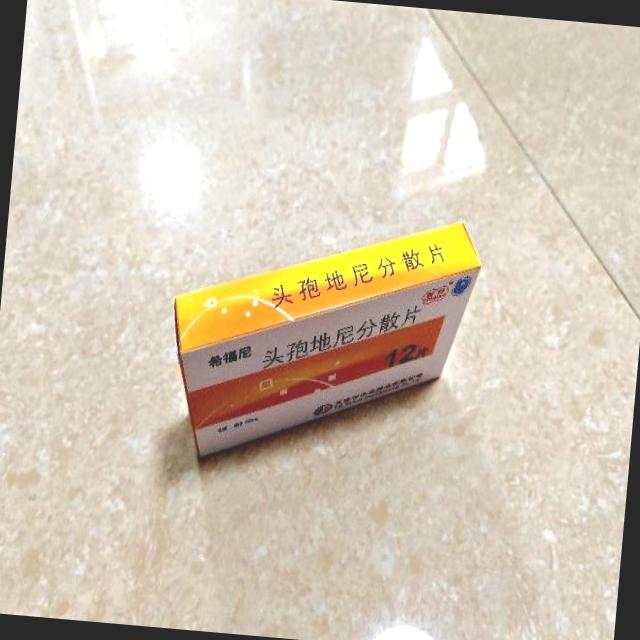box: (159, 194, 484, 481)
